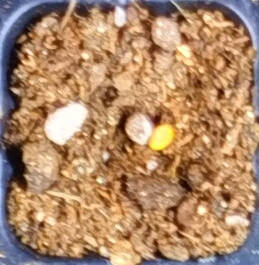pepper seed: (61, 48, 237, 199)
